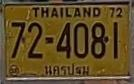0: (73, 22, 88, 57)
1: (112, 22, 118, 58)
2: (28, 22, 42, 58)
4: (56, 22, 70, 58)
7: (10, 22, 24, 58)
8: (90, 22, 106, 58)
NPT: (42, 61, 91, 79)
